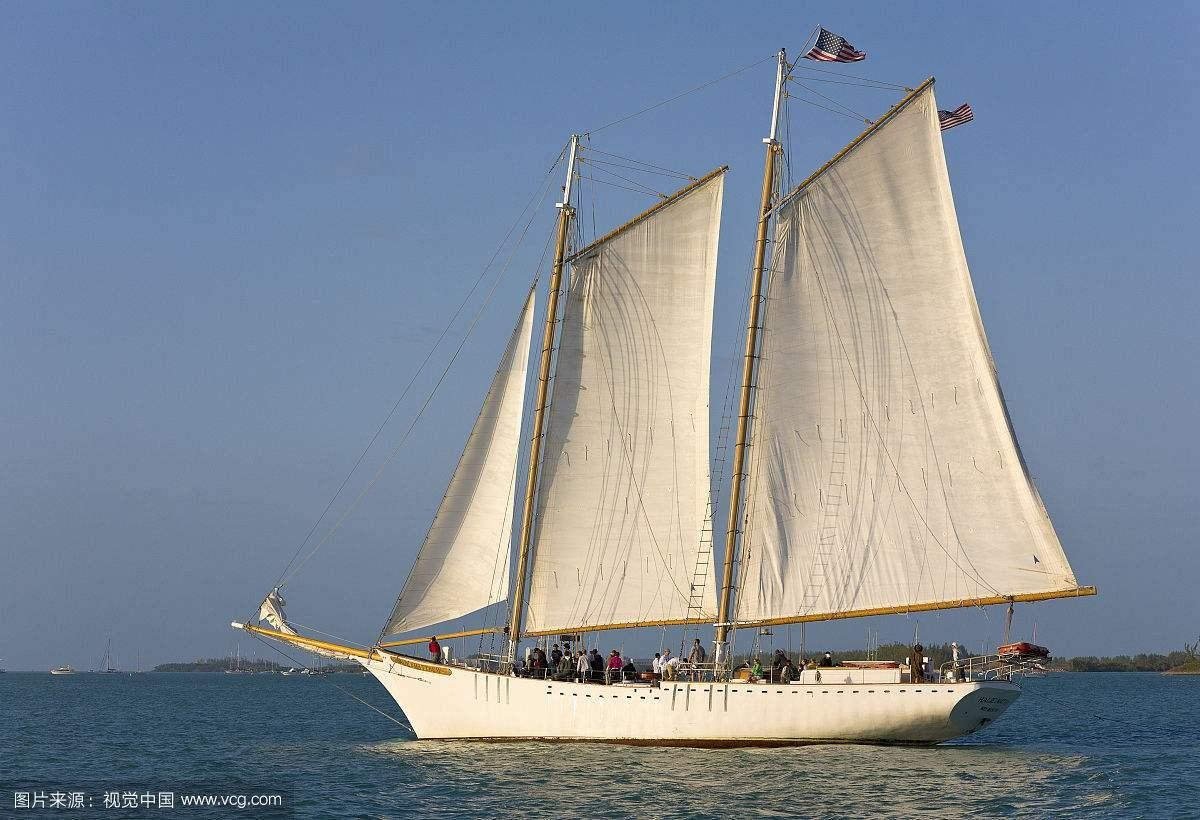fanchuan: (228, 22, 1103, 749)
